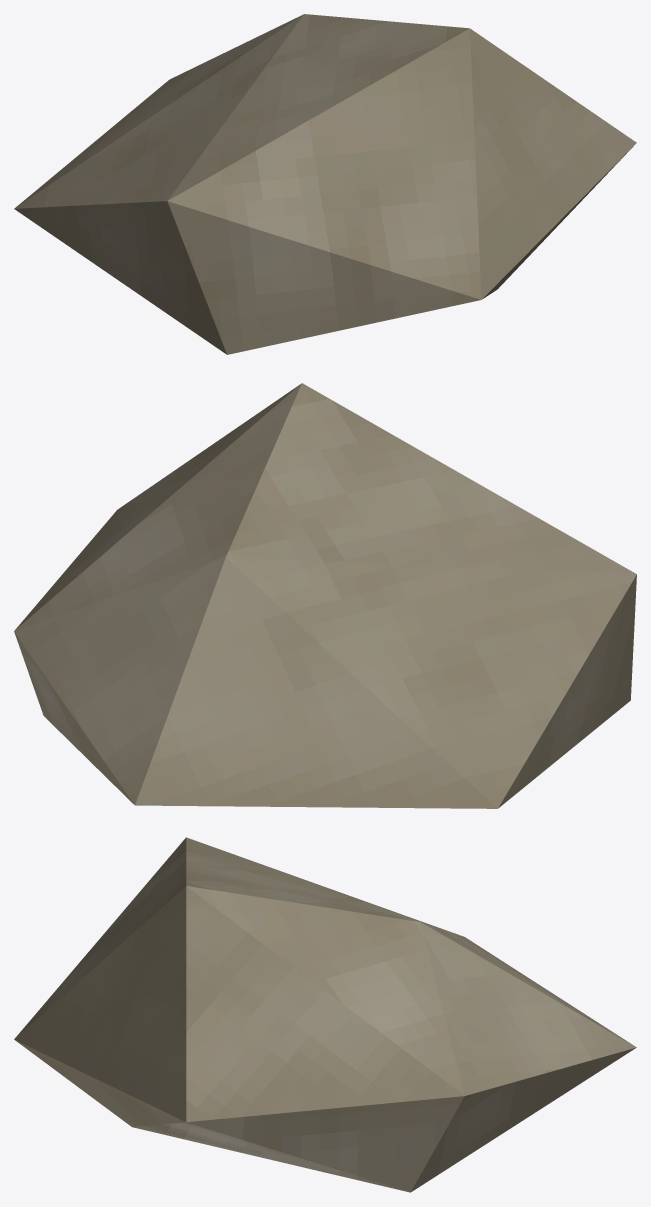
The model's file is rock_circular4_fbx.fbx.
3 renders of one model, top to bottom at view 1: azimuth 30°, elevation 25°; view 2: azimuth 150°, elevation 25°; view 3: azimuth 270°, elevation 25°, orthographic. The views are drawn at different scales.
Visible parts, largest first — view 1: rock_circular4; view 2: rock_circular4; view 3: rock_circular4.
Part boxes in pixels (left/top/right/bottom): rock_circular4: left=14, top=14, right=636, bottom=354; rock_circular4: left=14, top=383, right=636, bottom=808; rock_circular4: left=14, top=837, right=636, bottom=1192.
Size of the model in its own units: 179 by 92.14 by 200.
1 material, 1 textured.
